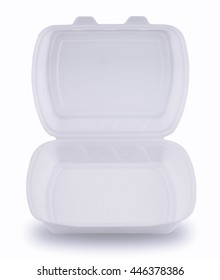Foam Box: (20, 13, 200, 242)
